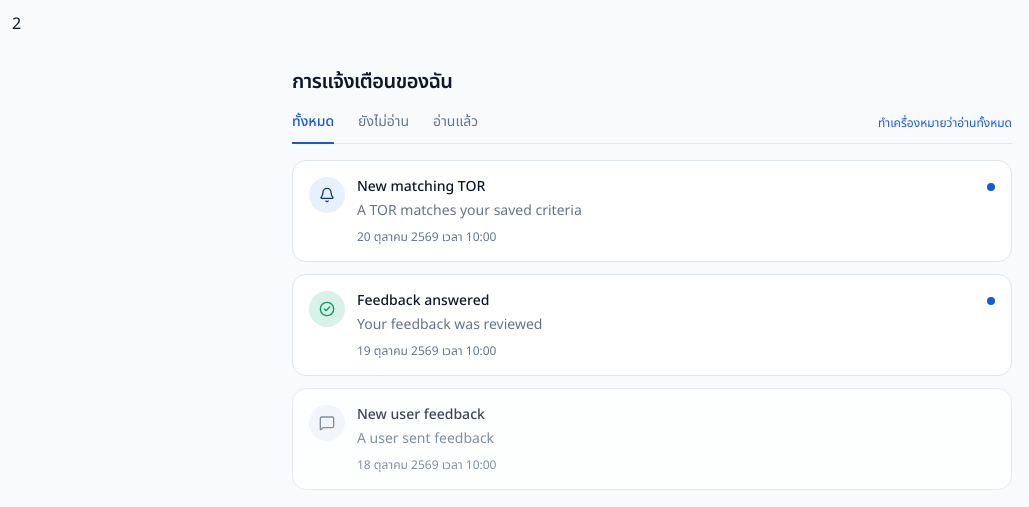
Notifications page › loads all notifications and switches between all, unread, and read tabs
Expected: the text "New matching TOR" is shown, [357,177,485,197]
Expected: the text "Feedback answered" is shown, [357,291,489,311]
Step 1. Click the button "ยังไม่อ่าน" → (384, 128), box [358,112,409,144]
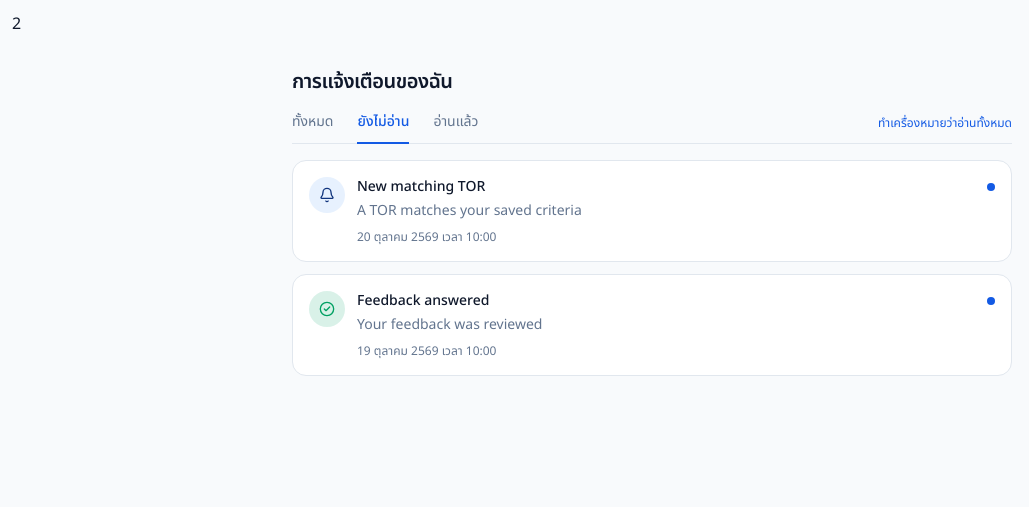
Expected: the text "Feedback answered" is shown, [357,291,489,311]
Expected: the text "New user feedback" is gone
Step 2. Click the button "อ่านแล้ว" → (456, 128), box [433,112,478,144]
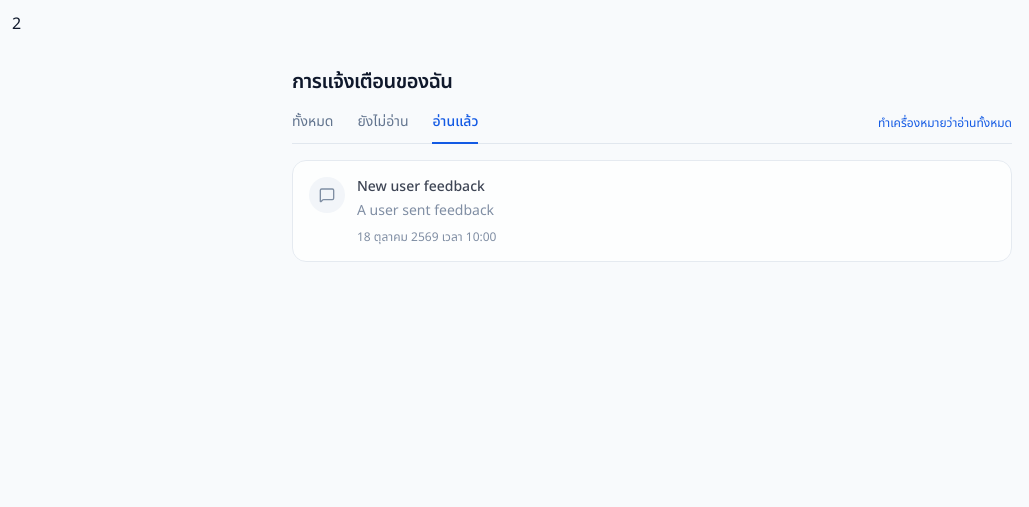
Expected: the text "New user feedback" is shown, [357,177,485,197]
Expected: the text "New matching TOR" is gone
